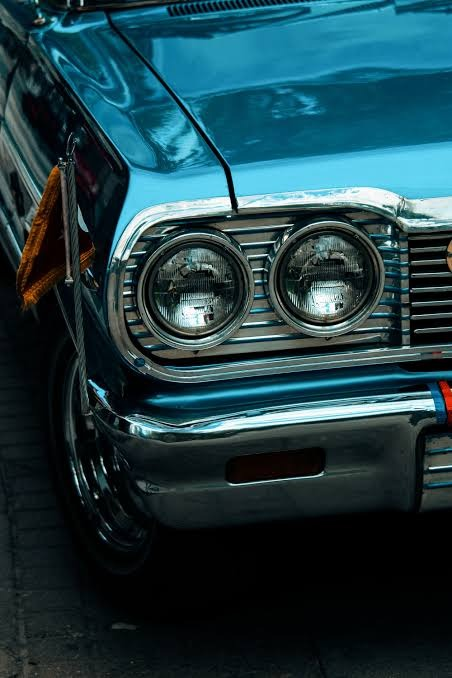car: (8, 4, 448, 622)
